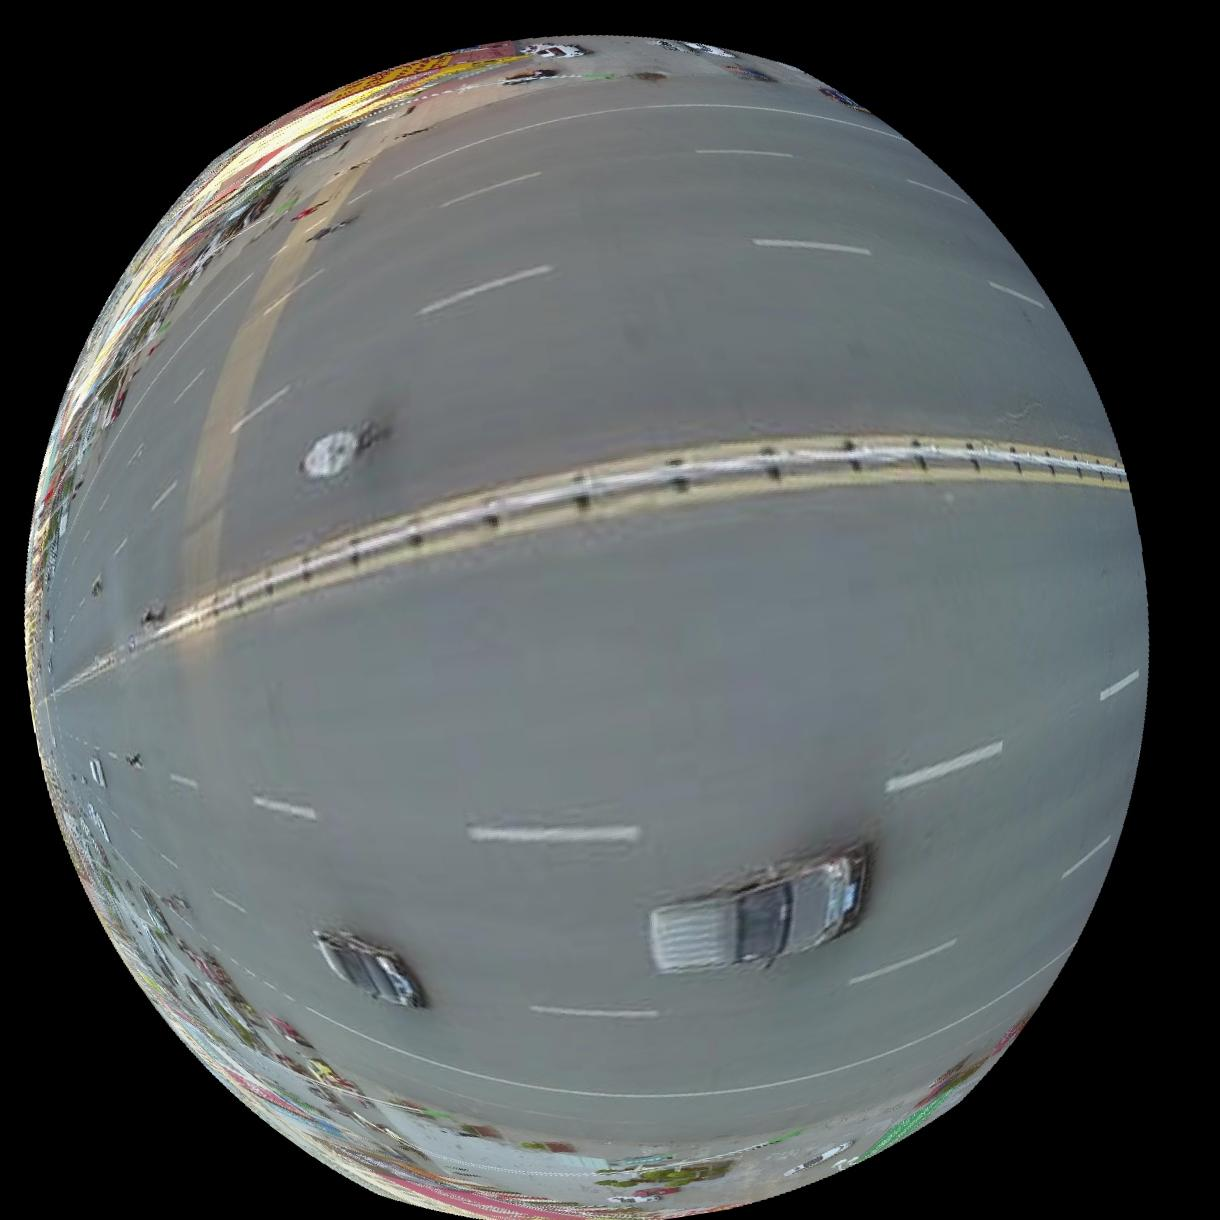cars: (648, 842, 869, 974), (312, 928, 425, 1009), (86, 755, 105, 787)
